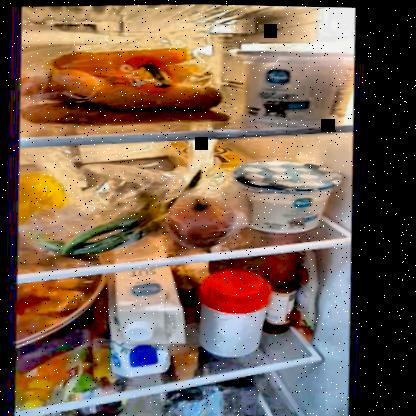broccoli: (171, 388, 277, 415)
carrot: (29, 46, 225, 124)
green_chillies: (34, 196, 179, 259)
lemon: (19, 171, 73, 223)
milk: (111, 272, 191, 373)
tomato: (171, 196, 241, 241)
yoghurt: (235, 36, 359, 125), (235, 157, 343, 232)
